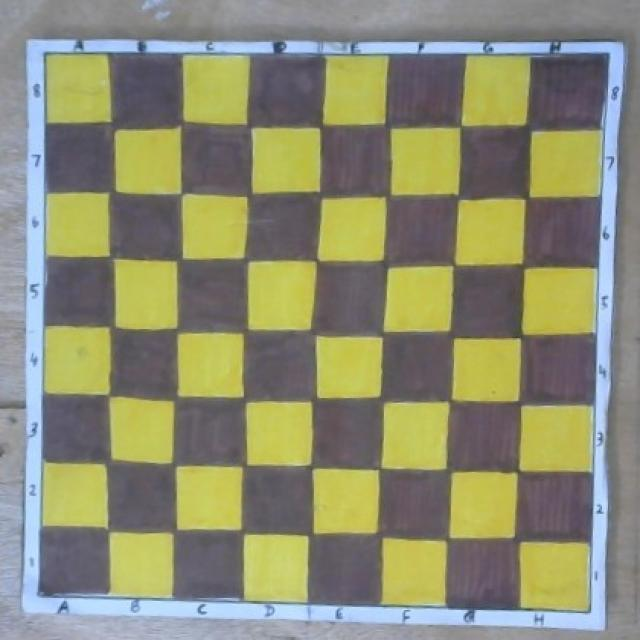chess-table-corners: (585, 606, 595, 614), (34, 592, 41, 598), (606, 50, 610, 59), (42, 52, 48, 56)
